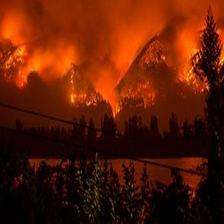fire: (5, 27, 213, 119)
